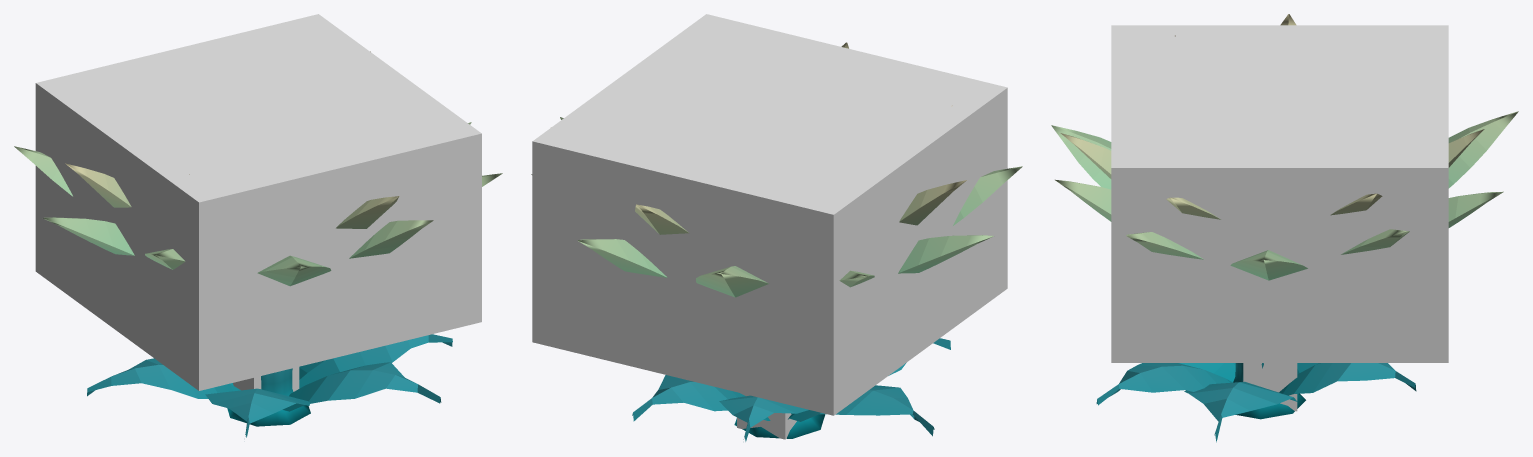
File: Plant_Collector_06.fbx
3 views of the same model, side by side, from view 1: azimuth 30°, elevation 25°; view 2: azimuth 150°, elevation 25°; view 3: azimuth 270°, elevation 25° (orthographic). The views are drawn at different scales.
Visible parts, largest first — view 1: INTERACT_06, Plant_Collector_06, COL_06_0; view 2: INTERACT_06, Plant_Collector_06, COL_06_0; view 3: INTERACT_06, Plant_Collector_06, COL_06_0.
Part boxes in pixels (bbox=[...]): INTERACT_06: bbox=[35, 14, 481, 390]; Plant_Collector_06: bbox=[14, 51, 502, 437]; COL_06_0: bbox=[233, 367, 299, 391]; INTERACT_06: bbox=[532, 14, 1007, 415]; Plant_Collector_06: bbox=[531, 42, 1022, 441]; COL_06_0: bbox=[737, 393, 796, 439]; INTERACT_06: bbox=[1111, 25, 1448, 362]; Plant_Collector_06: bbox=[1051, 14, 1518, 442]; COL_06_0: bbox=[1243, 363, 1297, 411].
Size of the model in its own units: 3.69 by 2.48 by 3.46.
